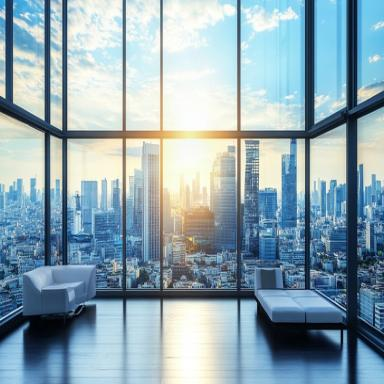glass_panel: (165, 139, 236, 288), (164, 0, 236, 130), (0, 115, 44, 323), (242, 139, 303, 289), (68, 140, 122, 291), (242, 0, 304, 130), (67, 0, 123, 130), (310, 121, 348, 309), (357, 107, 384, 344), (126, 140, 160, 289), (125, 0, 161, 128), (314, 0, 349, 128), (11, 1, 45, 123), (357, 1, 384, 106), (50, 134, 62, 264), (50, 1, 62, 130), (0, 0, 6, 103)
